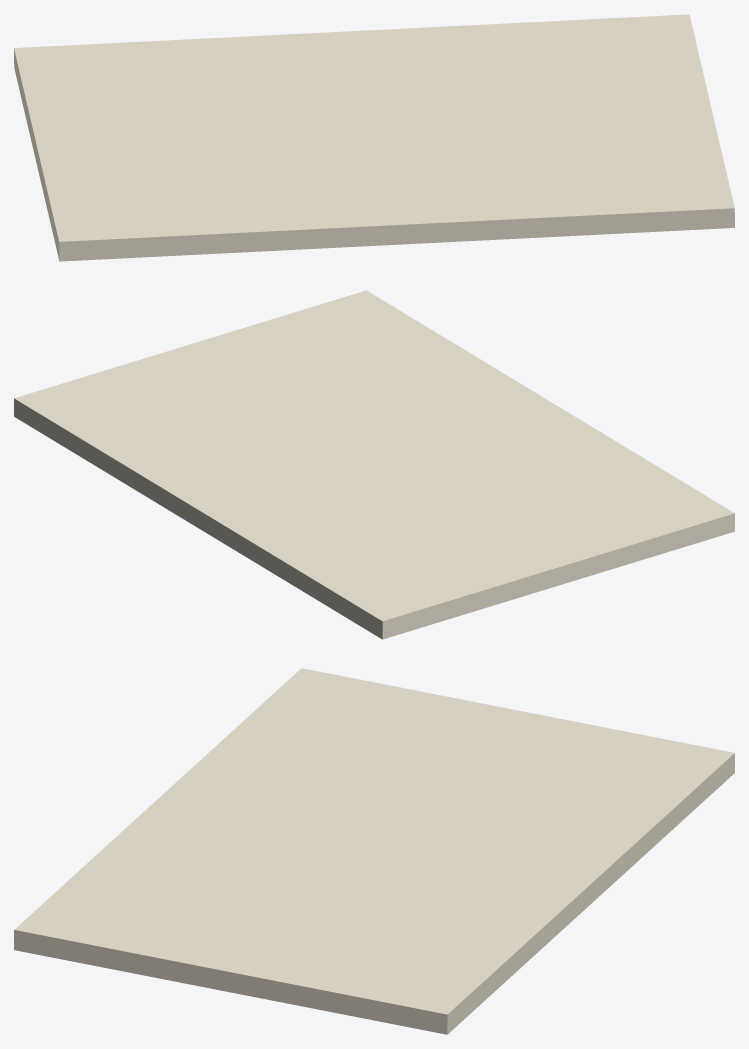
File: instructions.dae
The picture shows the model from 3 angles, top to bottom: view 1: azimuth 30°, elevation 25°; view 2: azimuth 150°, elevation 25°; view 3: azimuth 270°, elevation 25°; orthographic projection. The views are drawn at different scales.
Parts seen in each view (by area): view 1: Instructions; view 2: Instructions; view 3: Instructions.
Boxes of the visible parts, x1,y1,x2,y2 form: Instructions: (14, 14, 734, 261); Instructions: (14, 290, 734, 639); Instructions: (14, 668, 734, 1034).
Size of the model in its own units: 0.4022 by 0.3493 by 0.0148.
